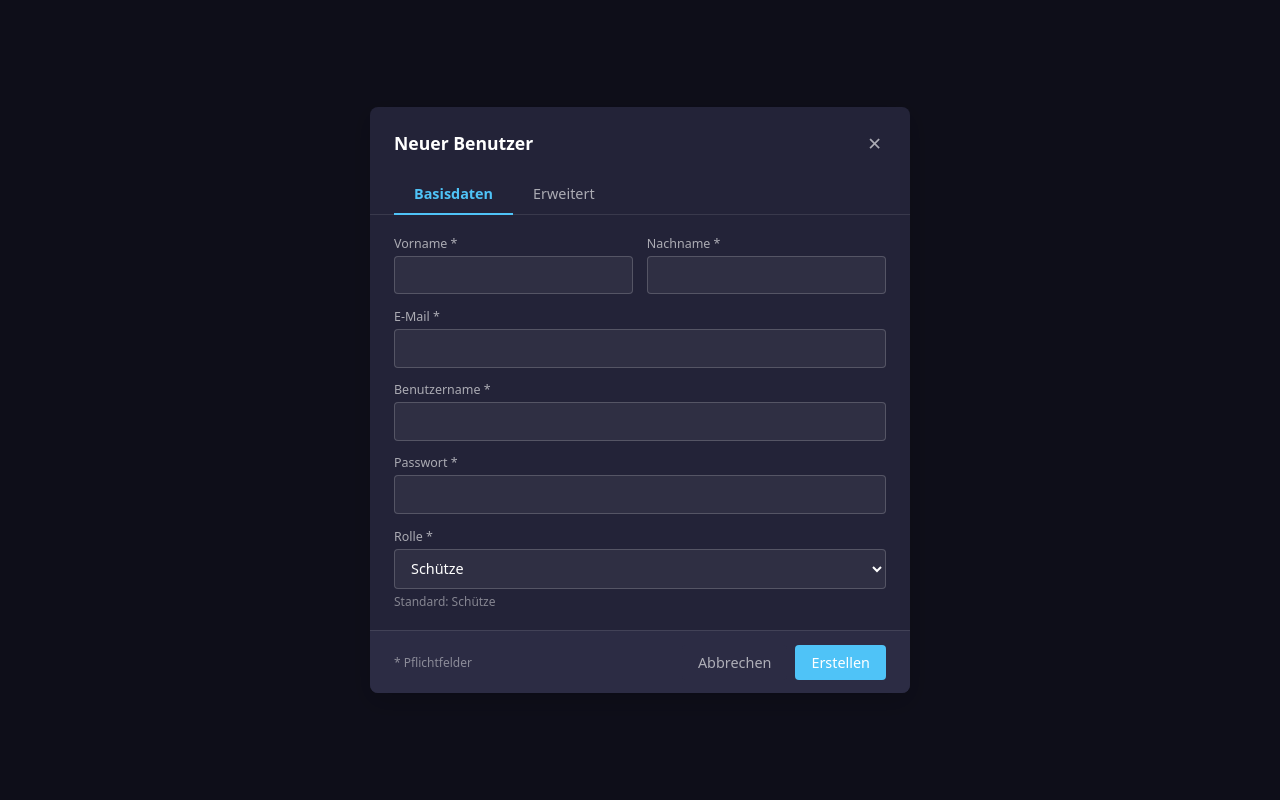
Test: UserFormModal › shows validation errors when required fields empty on submit
Click the button with test id "submit-btn": (841, 662) left=795, top=645, right=886, bottom=680
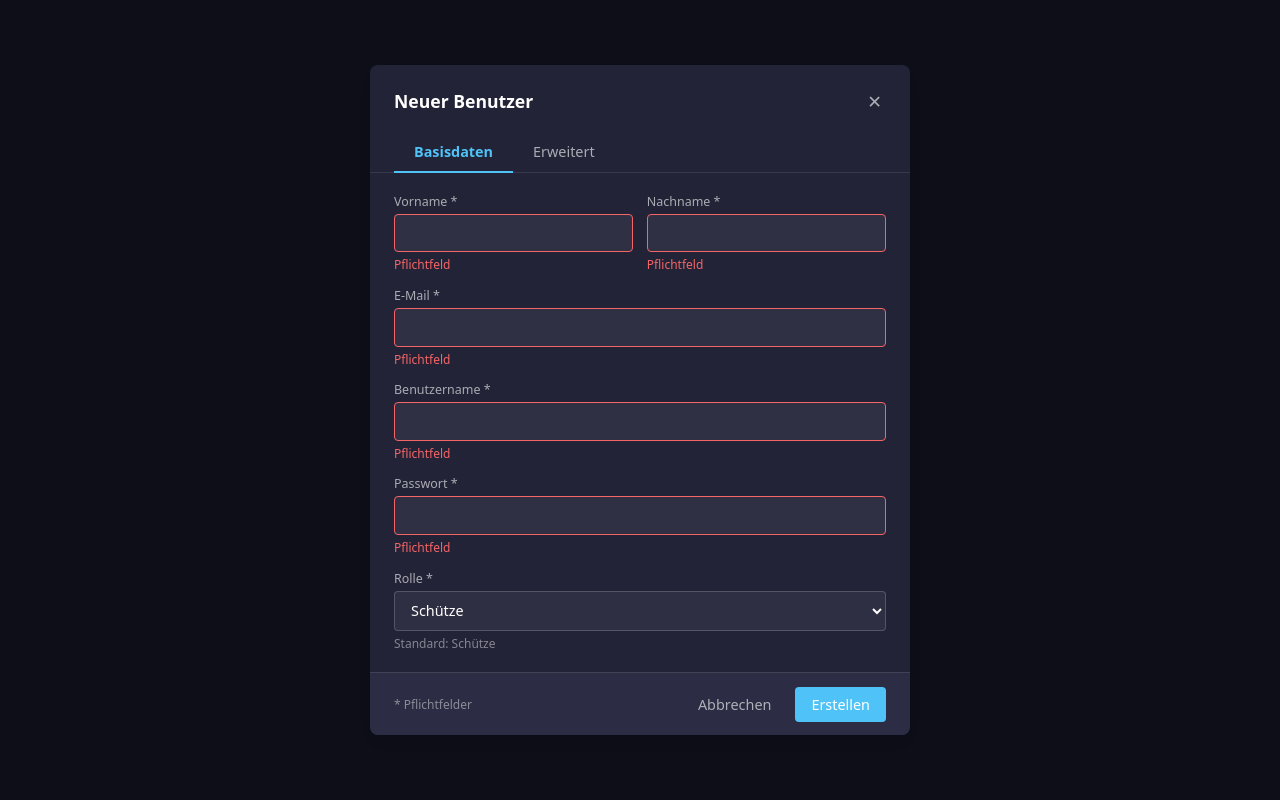
Result: the text with test id "error-vorname" is shown at left=394, top=256, right=450, bottom=273
Result: the text with test id "error-email" is shown at left=394, top=351, right=450, bottom=368
Result: the text with test id "error-password" is shown at left=394, top=539, right=450, bottom=556
